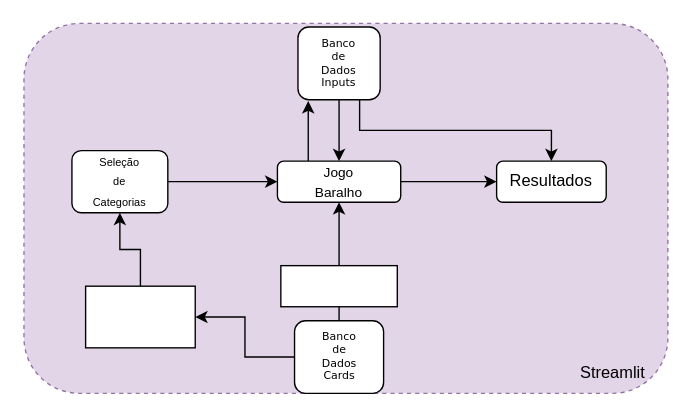
Some shapes in this 692 by 418 pixel diagram are drawn without their labels. Here are the shapes that lost their labels. From the top down, the centre of each, then its label:
At (x=338, y=285): "Descrição Card".
At (x=139, y=316): "Lista de Categorias".
